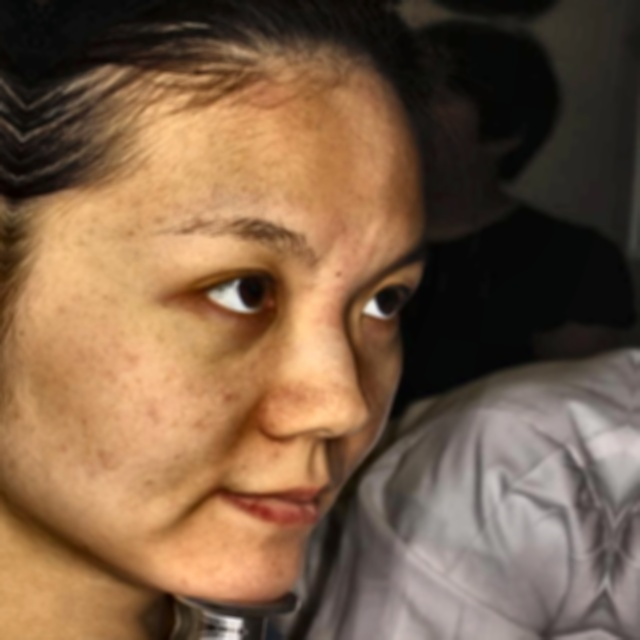comedone: (218, 385, 242, 408)
